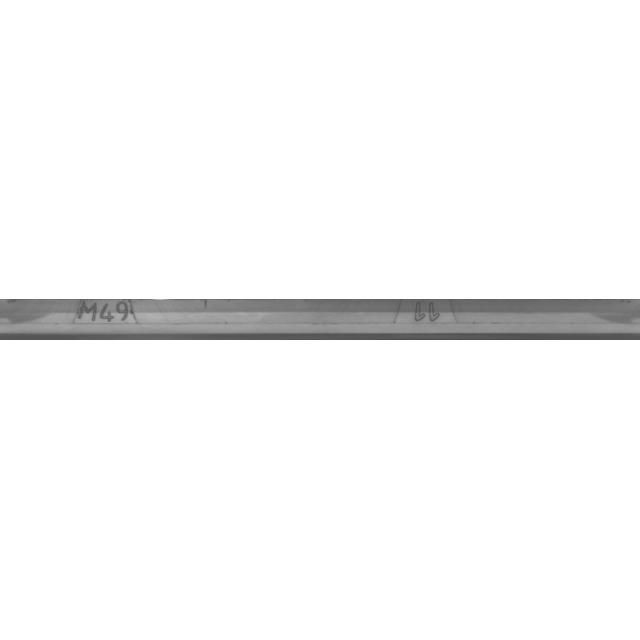mohao: (8, 270, 208, 370)
xuehao: (326, 270, 526, 370)
